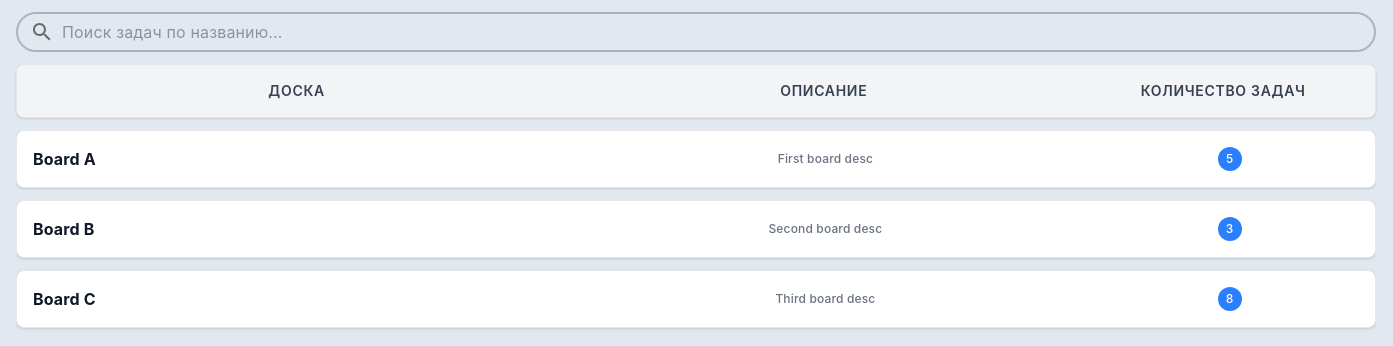
Test: BoardsList Component › should show "Ничего не найдено" when no boards match search
In the field with placeholder "Поиск задач по названию...": (719, 32) left=62, top=12, right=1376, bottom=52, type "NonExistent"
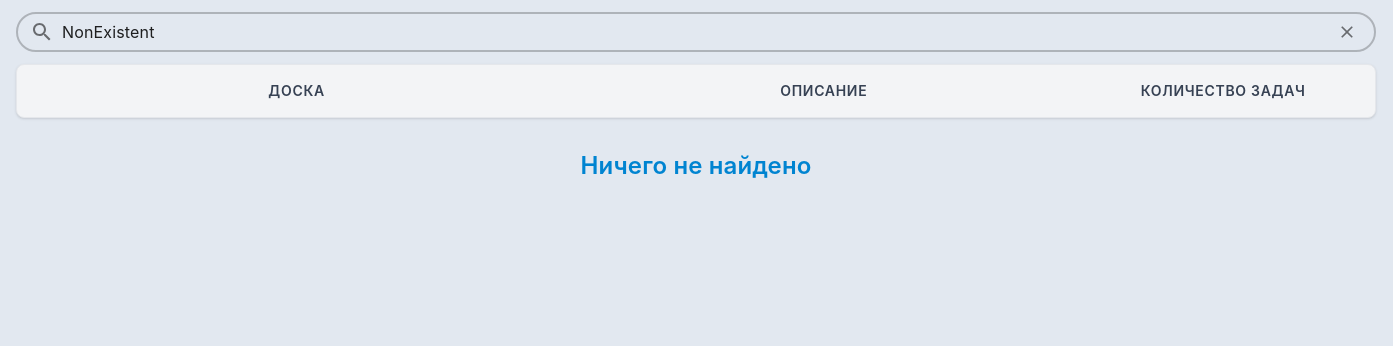
Result: the text "Ничего не найдено" is shown at left=580, top=151, right=812, bottom=180
